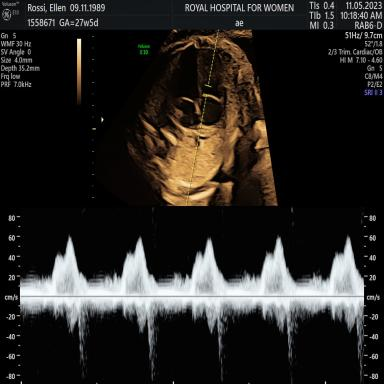Ultrasound-Waves: (25, 211, 361, 384)
